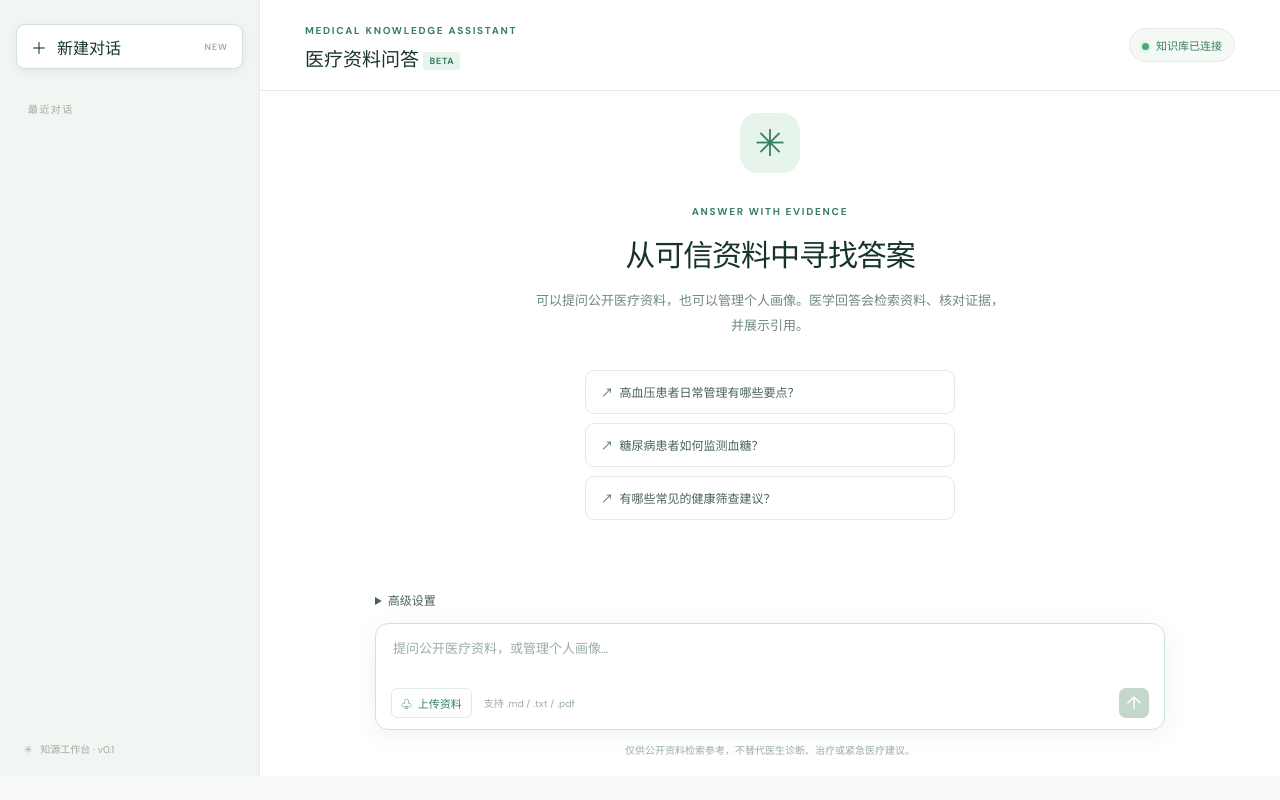
reports an unavailable memory status independently from the answer
Type "随访问题" into the text box named "输入医疗资料问题".
click(770, 660); type("随访问题")  # box 391,637 -> 1149,683
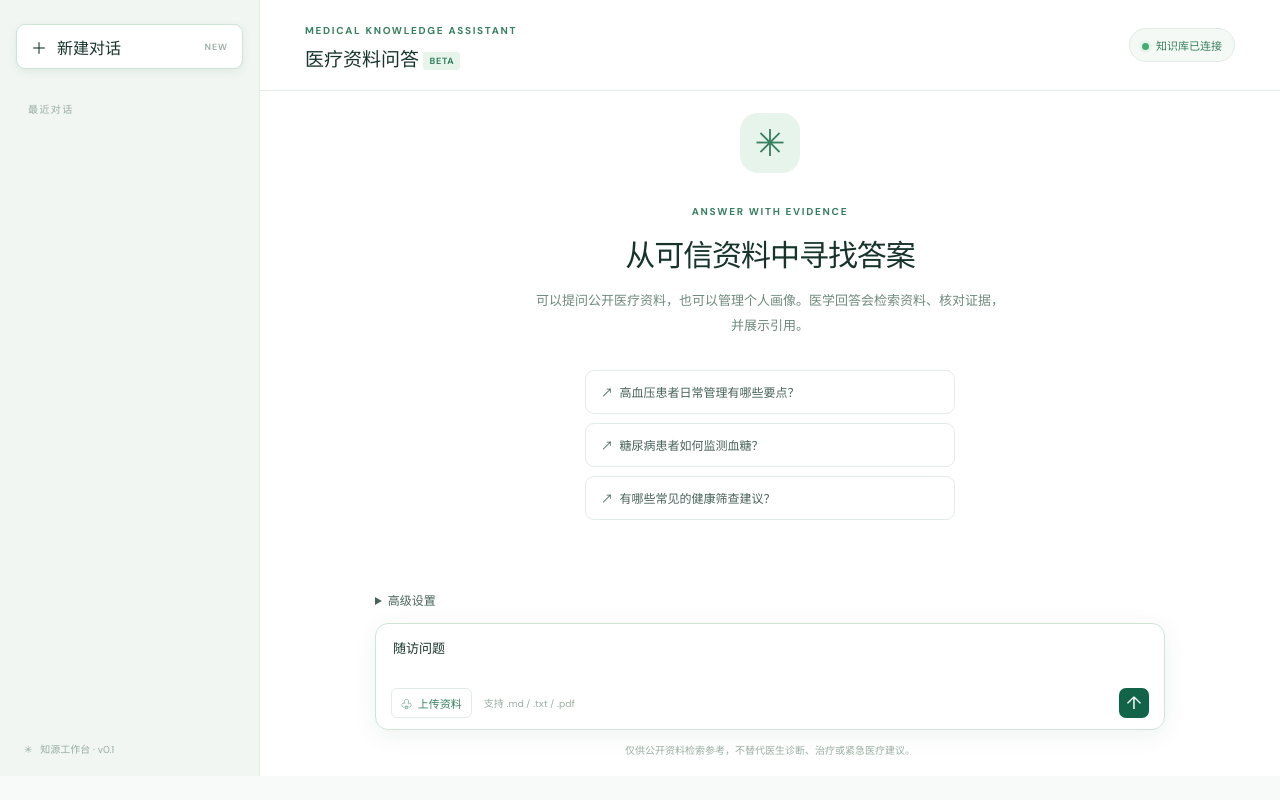
Click the button named "发送问题".
click(1134, 703)  # box 1119,688 -> 1149,718
Wait 1000 ms
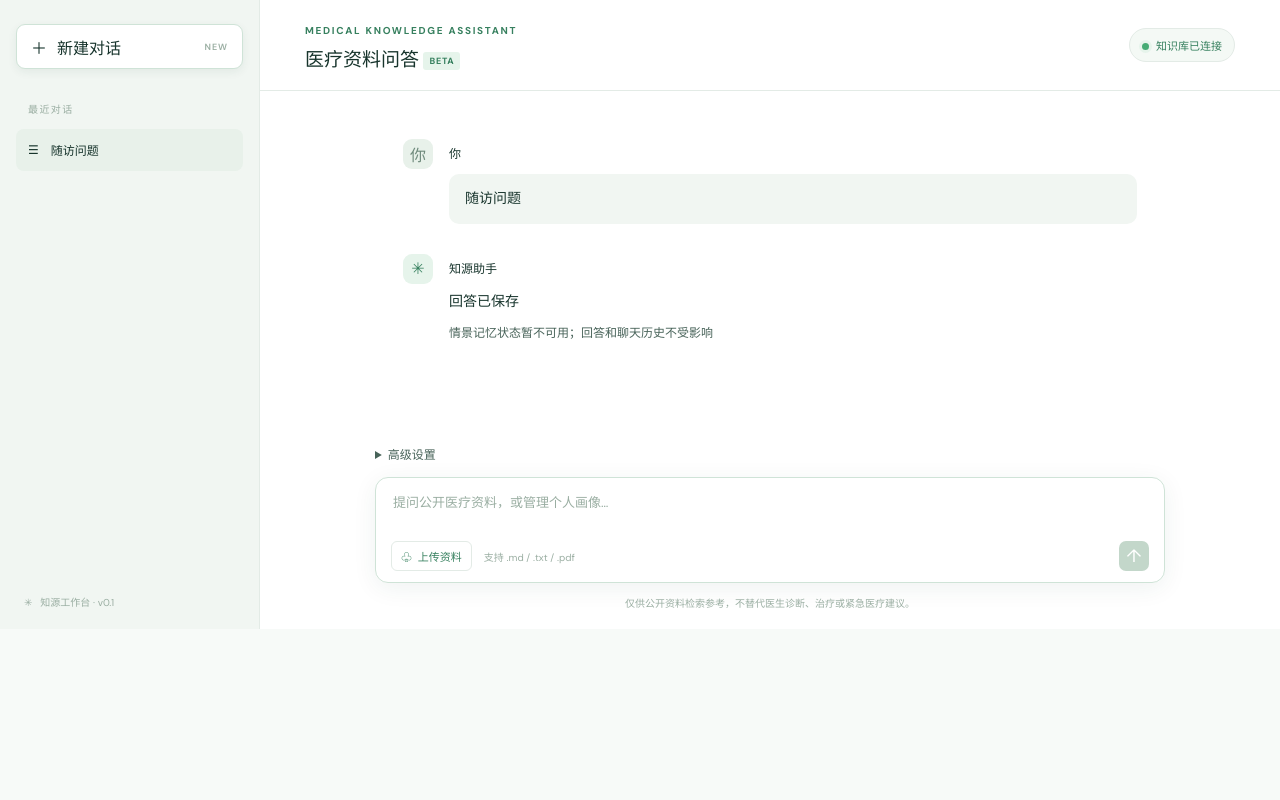
Result: the text "情景记忆状态暂不可用；回答和聊天历史不受影响" is shown at 449,325 -> 713,341
Result: the text "回答已保存" is shown at 449,292 -> 519,310
